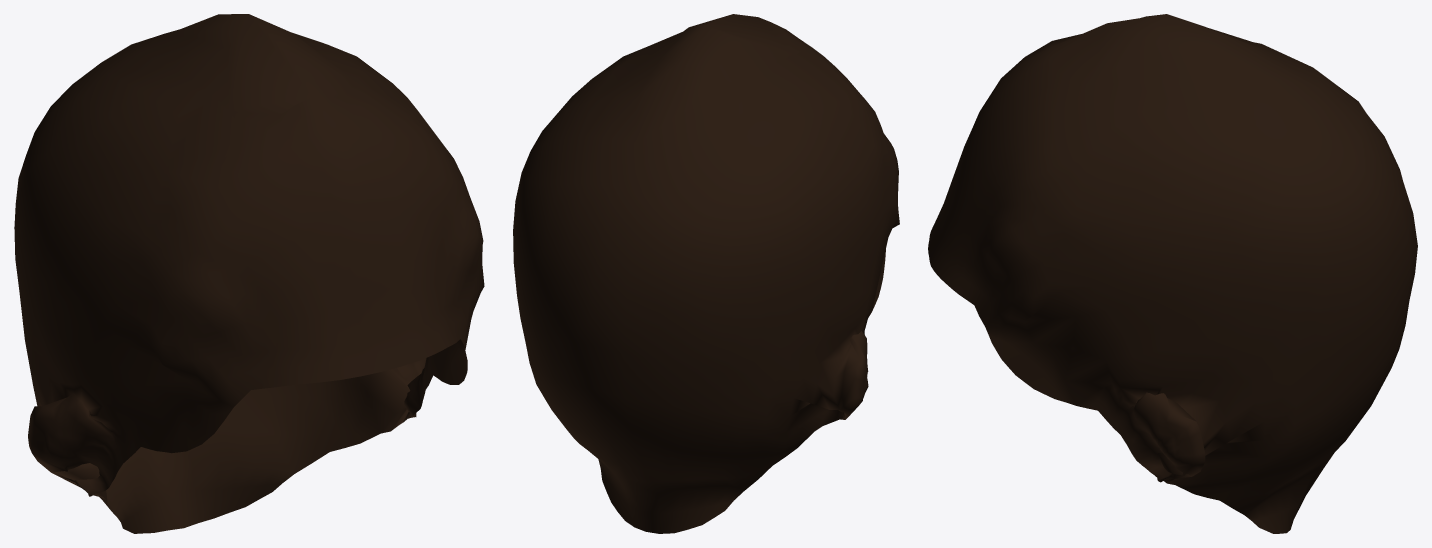
The model's file is hair_swept.glb.
3 views of the same model, side by side, from view 1: azimuth 30°, elevation 25°; view 2: azimuth 150°, elevation 25°; view 3: azimuth 270°, elevation 25° (orthographic). The views are drawn at different scales.
Parts seen in each view (by area): view 1: hair_swept; view 2: hair_swept; view 3: hair_swept.
Boxes of the visible parts, bbox=[...] form: hair_swept: bbox=[14, 14, 484, 533]; hair_swept: bbox=[513, 14, 899, 533]; hair_swept: bbox=[928, 14, 1417, 533].
Size of the model in its own units: 0.2007 by 0.2675 by 0.2331.
